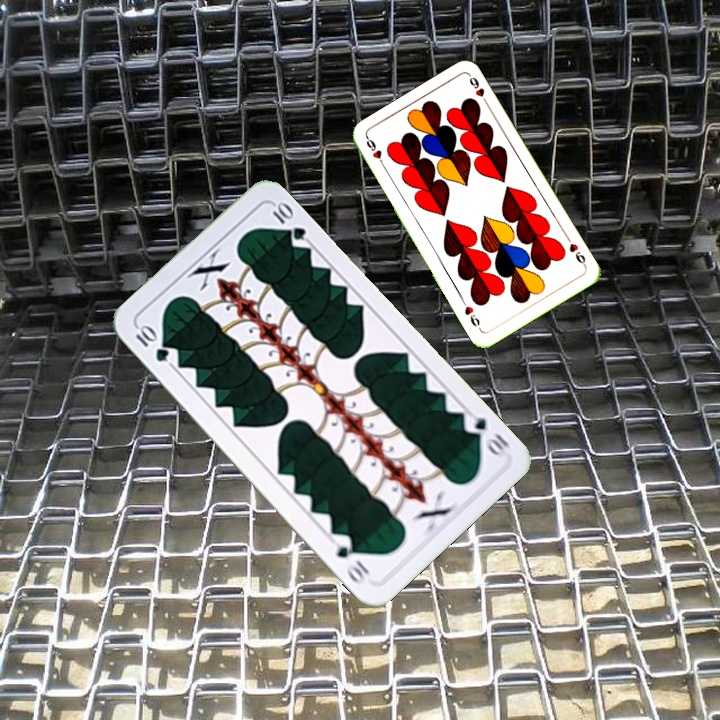G10: (459, 408, 513, 459), (131, 321, 172, 365)
H9: (563, 233, 589, 270), (362, 134, 388, 171)
